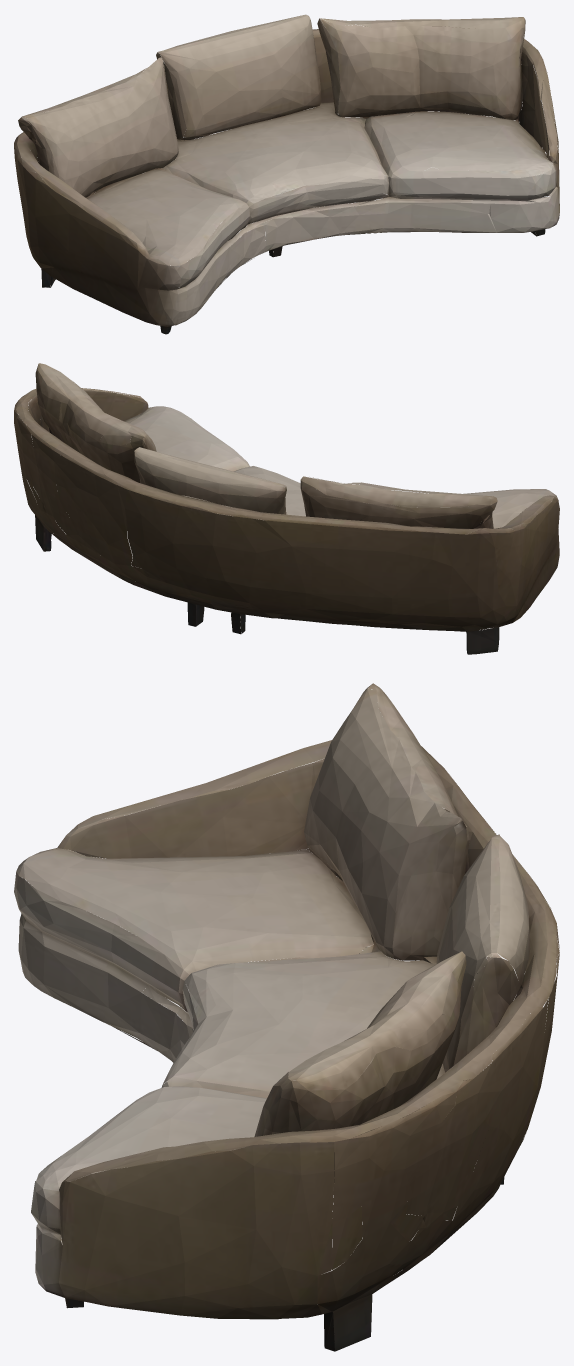
File: c-canape-courbe.glb
3 renders of one model, top to bottom at view 1: azimuth 30°, elevation 25°; view 2: azimuth 150°, elevation 25°; view 3: azimuth 270°, elevation 25°, orthographic. The views are drawn at different scales.
Parts seen in each view (by area): view 1: geometry_0; view 2: geometry_0; view 3: geometry_0.
Part boxes in pixels (x1=…): geometry_0: x1=14, y1=14, x2=559, y2=334; geometry_0: x1=14, y1=363, x2=559, y2=654; geometry_0: x1=14, y1=683, x2=559, y2=1351.
Size of the model in its own units: 0.9993 by 0.3161 by 0.5573.
Materials: 1 (1 with a texture image).
